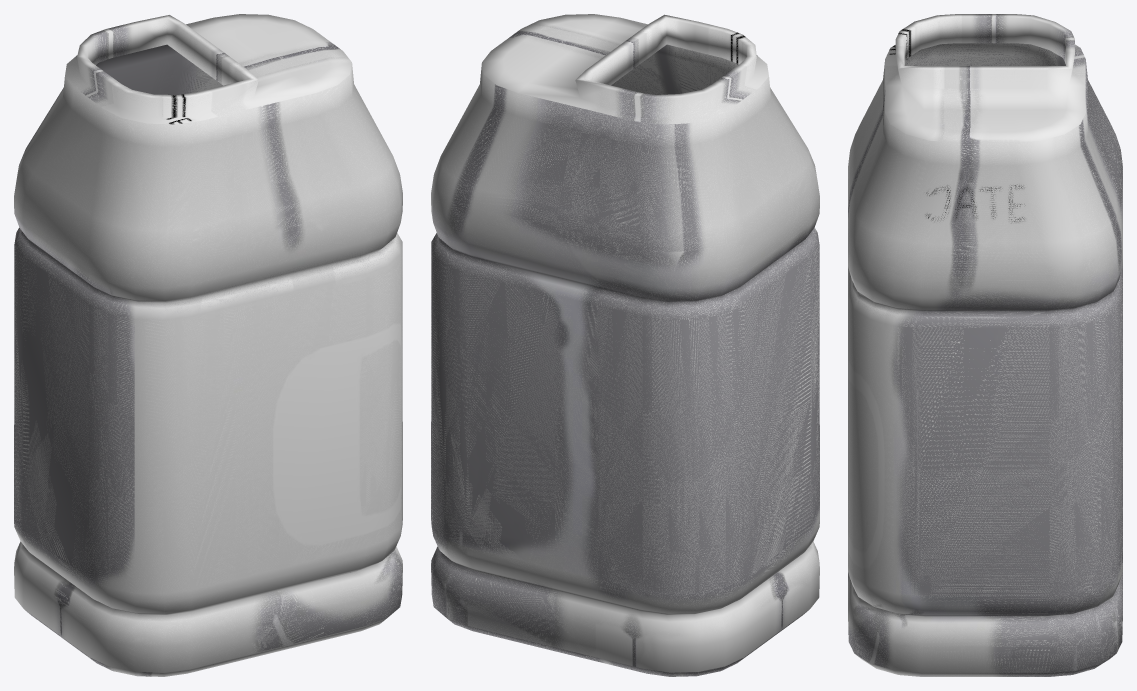
File: SmallGarbageCan 1.fbx
The picture shows the model from 3 angles, left to right: view 1: azimuth 30°, elevation 25°; view 2: azimuth 150°, elevation 25°; view 3: azimuth 270°, elevation 25°; orthographic projection. The views are drawn at different scales.
Visible parts, largest first — view 1: Cube; view 2: Cube; view 3: Cube.
Boxes of the visible parts, box(x1,y1,x2,y2) form: Cube: box(14, 14, 402, 676); Cube: box(431, 14, 819, 676); Cube: box(848, 14, 1122, 676).
Size of the model in its own units: 13.36 by 23.31 by 10.7.
